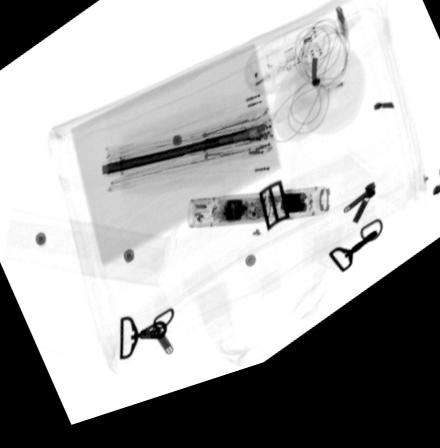Baton: (185, 206, 332, 241)
